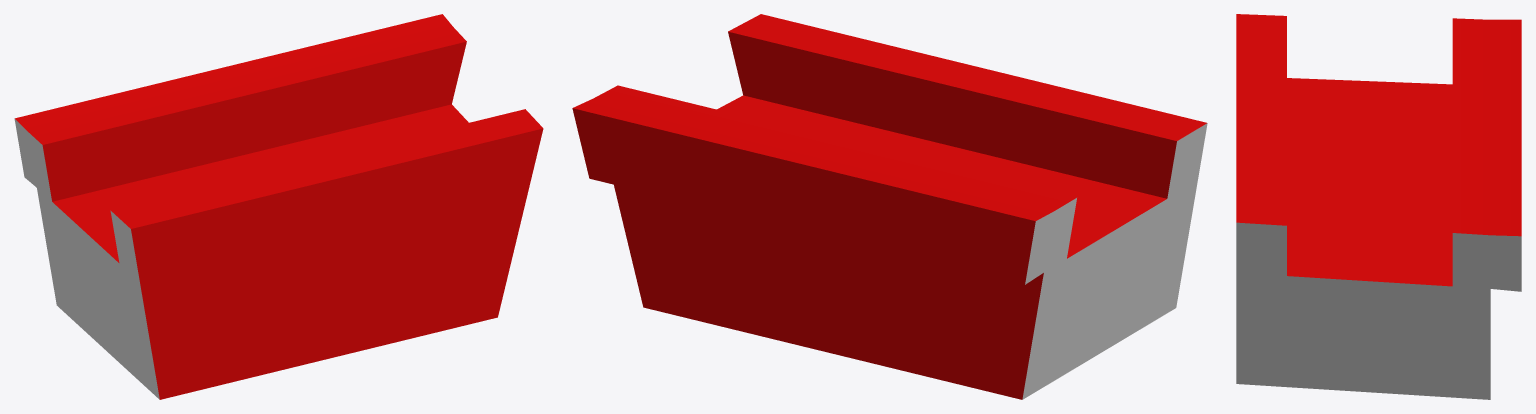
The model's file is mdl_ciudadela_pared_fracturepart7.fbx.
3 renders of one model, left to right at view 1: azimuth 30°, elevation 25°; view 2: azimuth 150°, elevation 25°; view 3: azimuth 270°, elevation 25°, orthographic. The views are drawn at different scales.
Visible parts, largest first — view 1: mdl_ciudadela_pared_fracturepart7; view 2: mdl_ciudadela_pared_fracturepart7; view 3: mdl_ciudadela_pared_fracturepart7.
Part boxes in pixels (box(x1,y1,x2,y2)): mdl_ciudadela_pared_fracturepart7: box(14, 14, 543, 399); mdl_ciudadela_pared_fracturepart7: box(572, 14, 1207, 399); mdl_ciudadela_pared_fracturepart7: box(1236, 14, 1521, 399).
Size of the model in its own units: 10.82 by 4.21 by 5.74.
